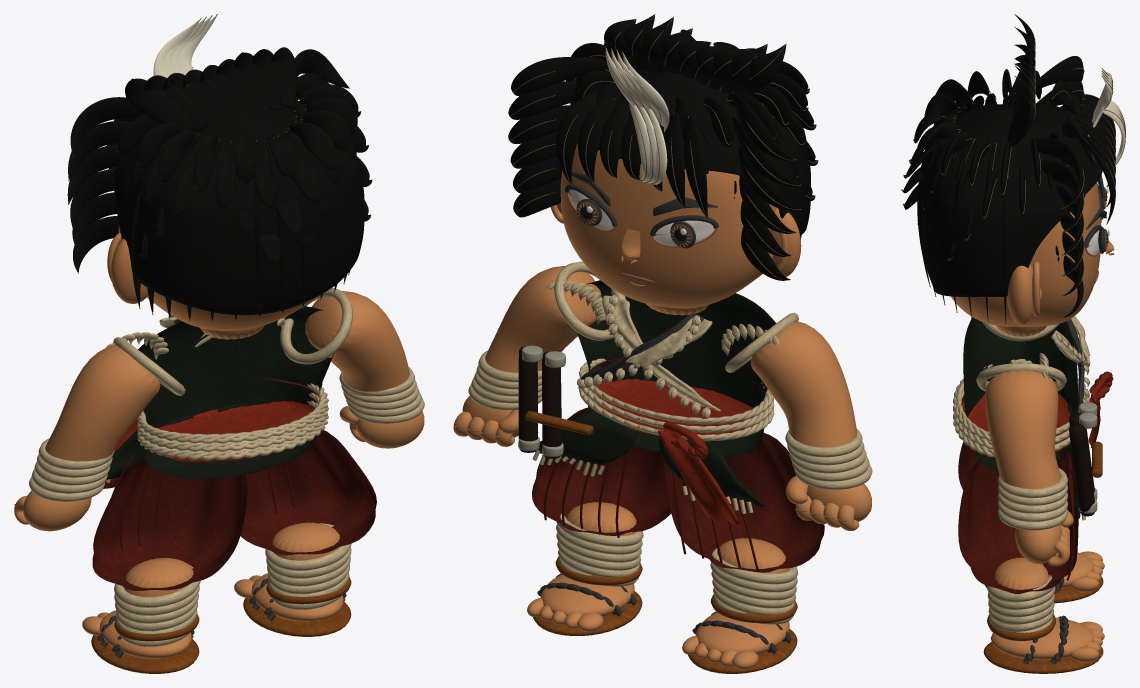
Rendered from roan.glb.
The picture shows the model from 3 angles, left to right: view 1: azimuth 30°, elevation 25°; view 2: azimuth 150°, elevation 25°; view 3: azimuth 270°, elevation 25°; orthographic projection. The views are drawn at different scales.
Visible parts, largest first — view 1: Roan__Fitted_scalp, Roan__Under_kimono, Roan__Trousers_-1, Roan__Trousers_1, Roan__Arm_anatomy_-1, Roan__Arm_anatomy_1, Roan__Sash_base, Roan__Face_sculpt_cage, Roan__Calf_-1, Roan__Calf_1, Roan__Palm_-1, Roan__Sandal_sole_1 (+68 smaller); view 2: Roan__Face_sculpt_cage, Roan__Under_kimono, Roan__Trousers_-1, Roan__Arm_anatomy_-1, Roan__Trousers_1, Roan__Arm_anatomy_1, Roan__Fitted_scalp, Roan__Sash_base, Roan__Fur_vest_hem_1, Roan__Rust_belt_tail, Roan__Foot_1, Roan__Foot_-1 (+69 smaller); view 3: Roan__Fitted_scalp, Roan__Arm_anatomy_1, Roan__Trousers_1, Roan__Face_sculpt_cage, Roan__Under_kimono, Roan__Foot_1, Roan__Sandal_sole_1, Roan__Tonfa_shaft_1, Roan__Calf_1, Roan__Palm_1, Roan__Ear_1, Roan__Layered_side_silhouette_1_0 (+46 smaller).
Boxes of the visible parts, box(x1,y1,x2,y2) form: Roan__Fitted_scalp: box(114, 104, 364, 315); Roan__Under_kimono: box(138, 306, 333, 479); Roan__Trousers_-1: box(92, 454, 247, 590); Roan__Trousers_1: box(223, 430, 376, 555); Roan__Arm_anatomy_-1: box(45, 345, 160, 461); Roan__Arm_anatomy_1: box(305, 291, 409, 396); Roan__Sash_base: box(151, 378, 318, 462); Roan__Face_sculpt_cage: box(118, 225, 315, 330); Roan__Calf_-1: box(124, 558, 193, 596); Roan__Calf_1: box(272, 522, 339, 560); Roan__Palm_-1: box(23, 491, 91, 531); Roan__Sandal_sole_1: box(243, 598, 351, 636); Roan__Face_sculpt_cage: box(560, 143, 776, 308); Roan__Under_kimono: box(577, 280, 776, 456); Roan__Trousers_-1: box(664, 433, 824, 572); Roan__Arm_anatomy_-1: box(750, 321, 857, 447); Roan__Trousers_1: box(532, 407, 685, 535); Roan__Arm_anatomy_1: box(485, 266, 601, 372); Roan__Fitted_scalp: box(557, 69, 810, 235); Roan__Sash_base: box(592, 357, 760, 435); Roan__Fur_vest_hem_1: box(538, 413, 637, 465); Roan__Rust_belt_tail: box(658, 430, 738, 524); Roan__Foot_1: box(540, 574, 634, 616); Roan__Foot_-1: box(695, 612, 789, 654); Roan__Fitted_scalp: box(921, 104, 1102, 296); Roan__Arm_anatomy_1: box(985, 370, 1060, 488); Roan__Trousers_1: box(958, 453, 1078, 593); Roan__Face_sculpt_cage: box(950, 182, 1100, 326); Roan__Under_kimono: box(963, 317, 1077, 472); Roan__Foot_1: box(990, 617, 1094, 660); Roan__Sandal_sole_1: box(983, 641, 1103, 673); Roan__Tonfa_shaft_1: box(1069, 423, 1094, 516); Roan__Calf_1: box(994, 557, 1048, 591); Roan__Palm_1: box(1015, 524, 1062, 563); Roan__Ear_1: box(1006, 264, 1032, 324); Roan__Layered_side_silhouette_1_0: box(1034, 137, 1083, 207).
Bounding box in the file's own units: 1.97 × 2.8 × 1.02.
18 materials, 7 textured.
